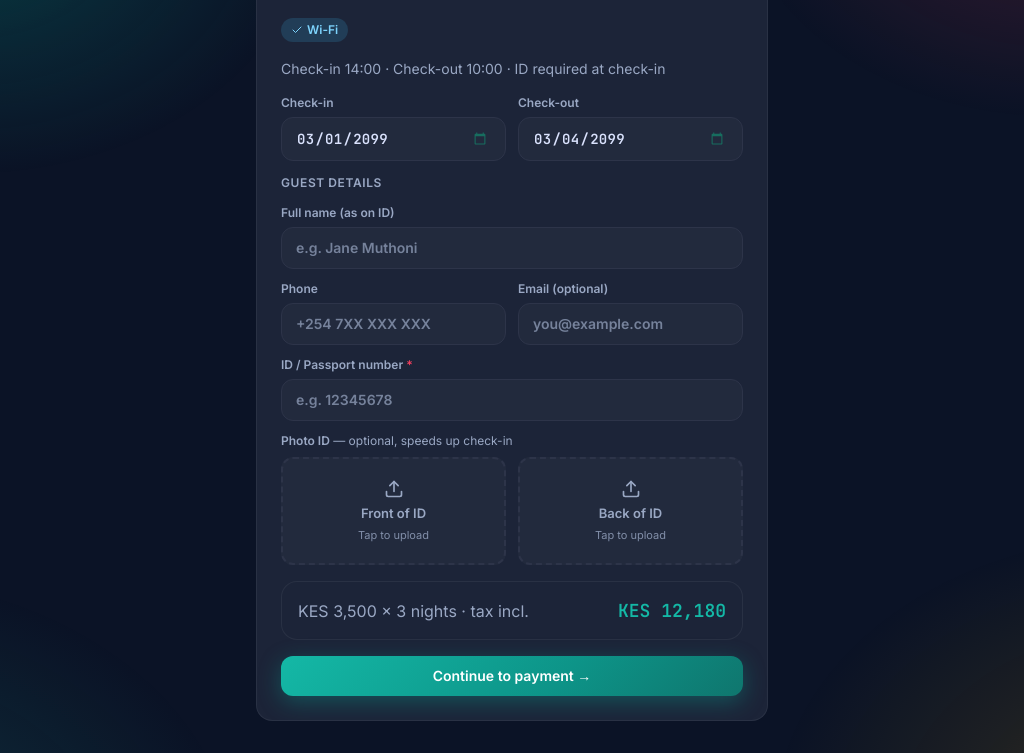
Scenario: room booking stepper › validates guest fields before advancing to Pay
(page scrolled)
Click the button "Continue to payment →": (512, 676) x1=281 y1=656 x2=743 y2=696
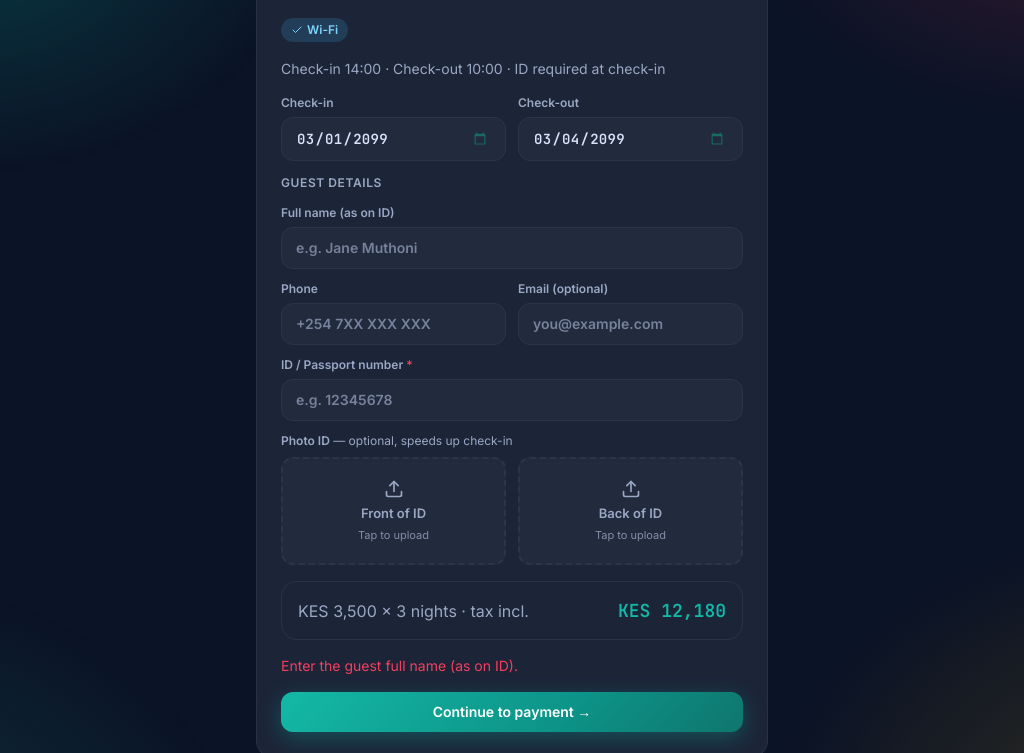
Check: the button "Continue to payment →" is shown, box x1=281 y1=692 x2=743 y2=732
Check: the text "Enter the guest full name (as on ID)." is shown, box x1=281 y1=657 x2=518 y2=674
